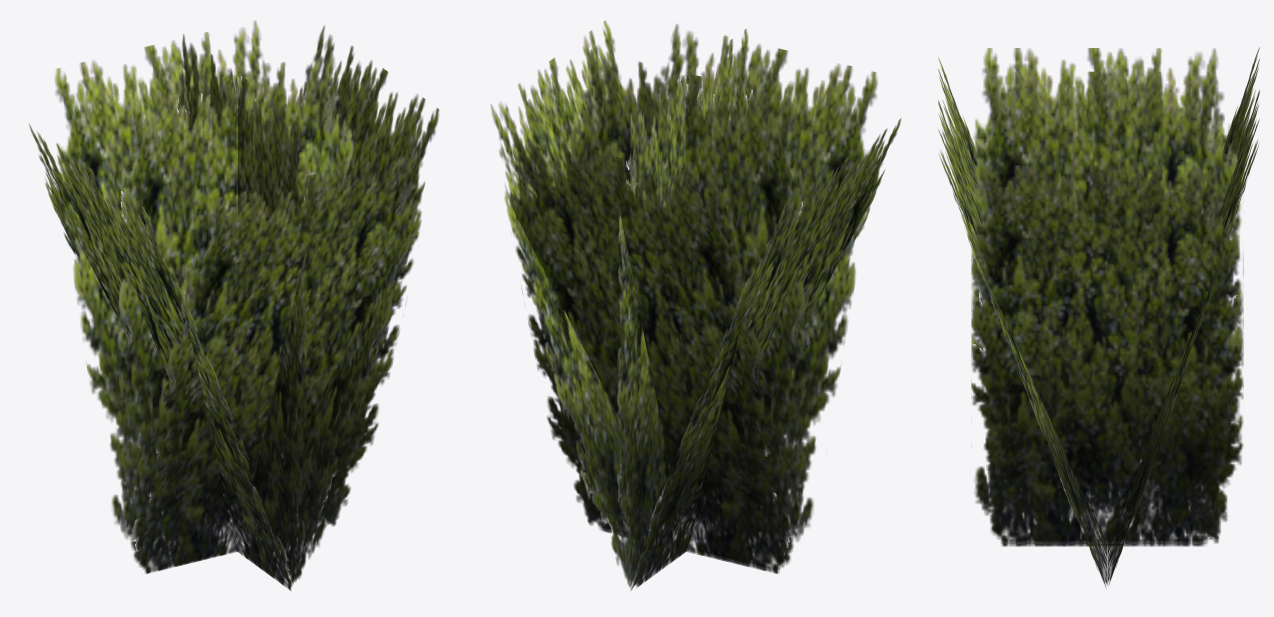
Rendered from shrub.gltf.
3 views of the same model, side by side, from view 1: azimuth 30°, elevation 25°; view 2: azimuth 150°, elevation 25°; view 3: azimuth 270°, elevation 25° (orthographic).
Visible parts, largest first — view 1: shrub.osg__Geometry_0; view 2: shrub.osg__Geometry_0; view 3: shrub.osg__Geometry_0.
Part boxes in pixels (<box>): shrub.osg__Geometry_0: <box>29,20,439,590</box>; shrub.osg__Geometry_0: <box>490,20,901,590</box>; shrub.osg__Geometry_0: <box>938,47,1259,588</box>.
Bounding box in the file's own units: 1.19 × 1.85 × 1.13.
1 material, 1 textured.
